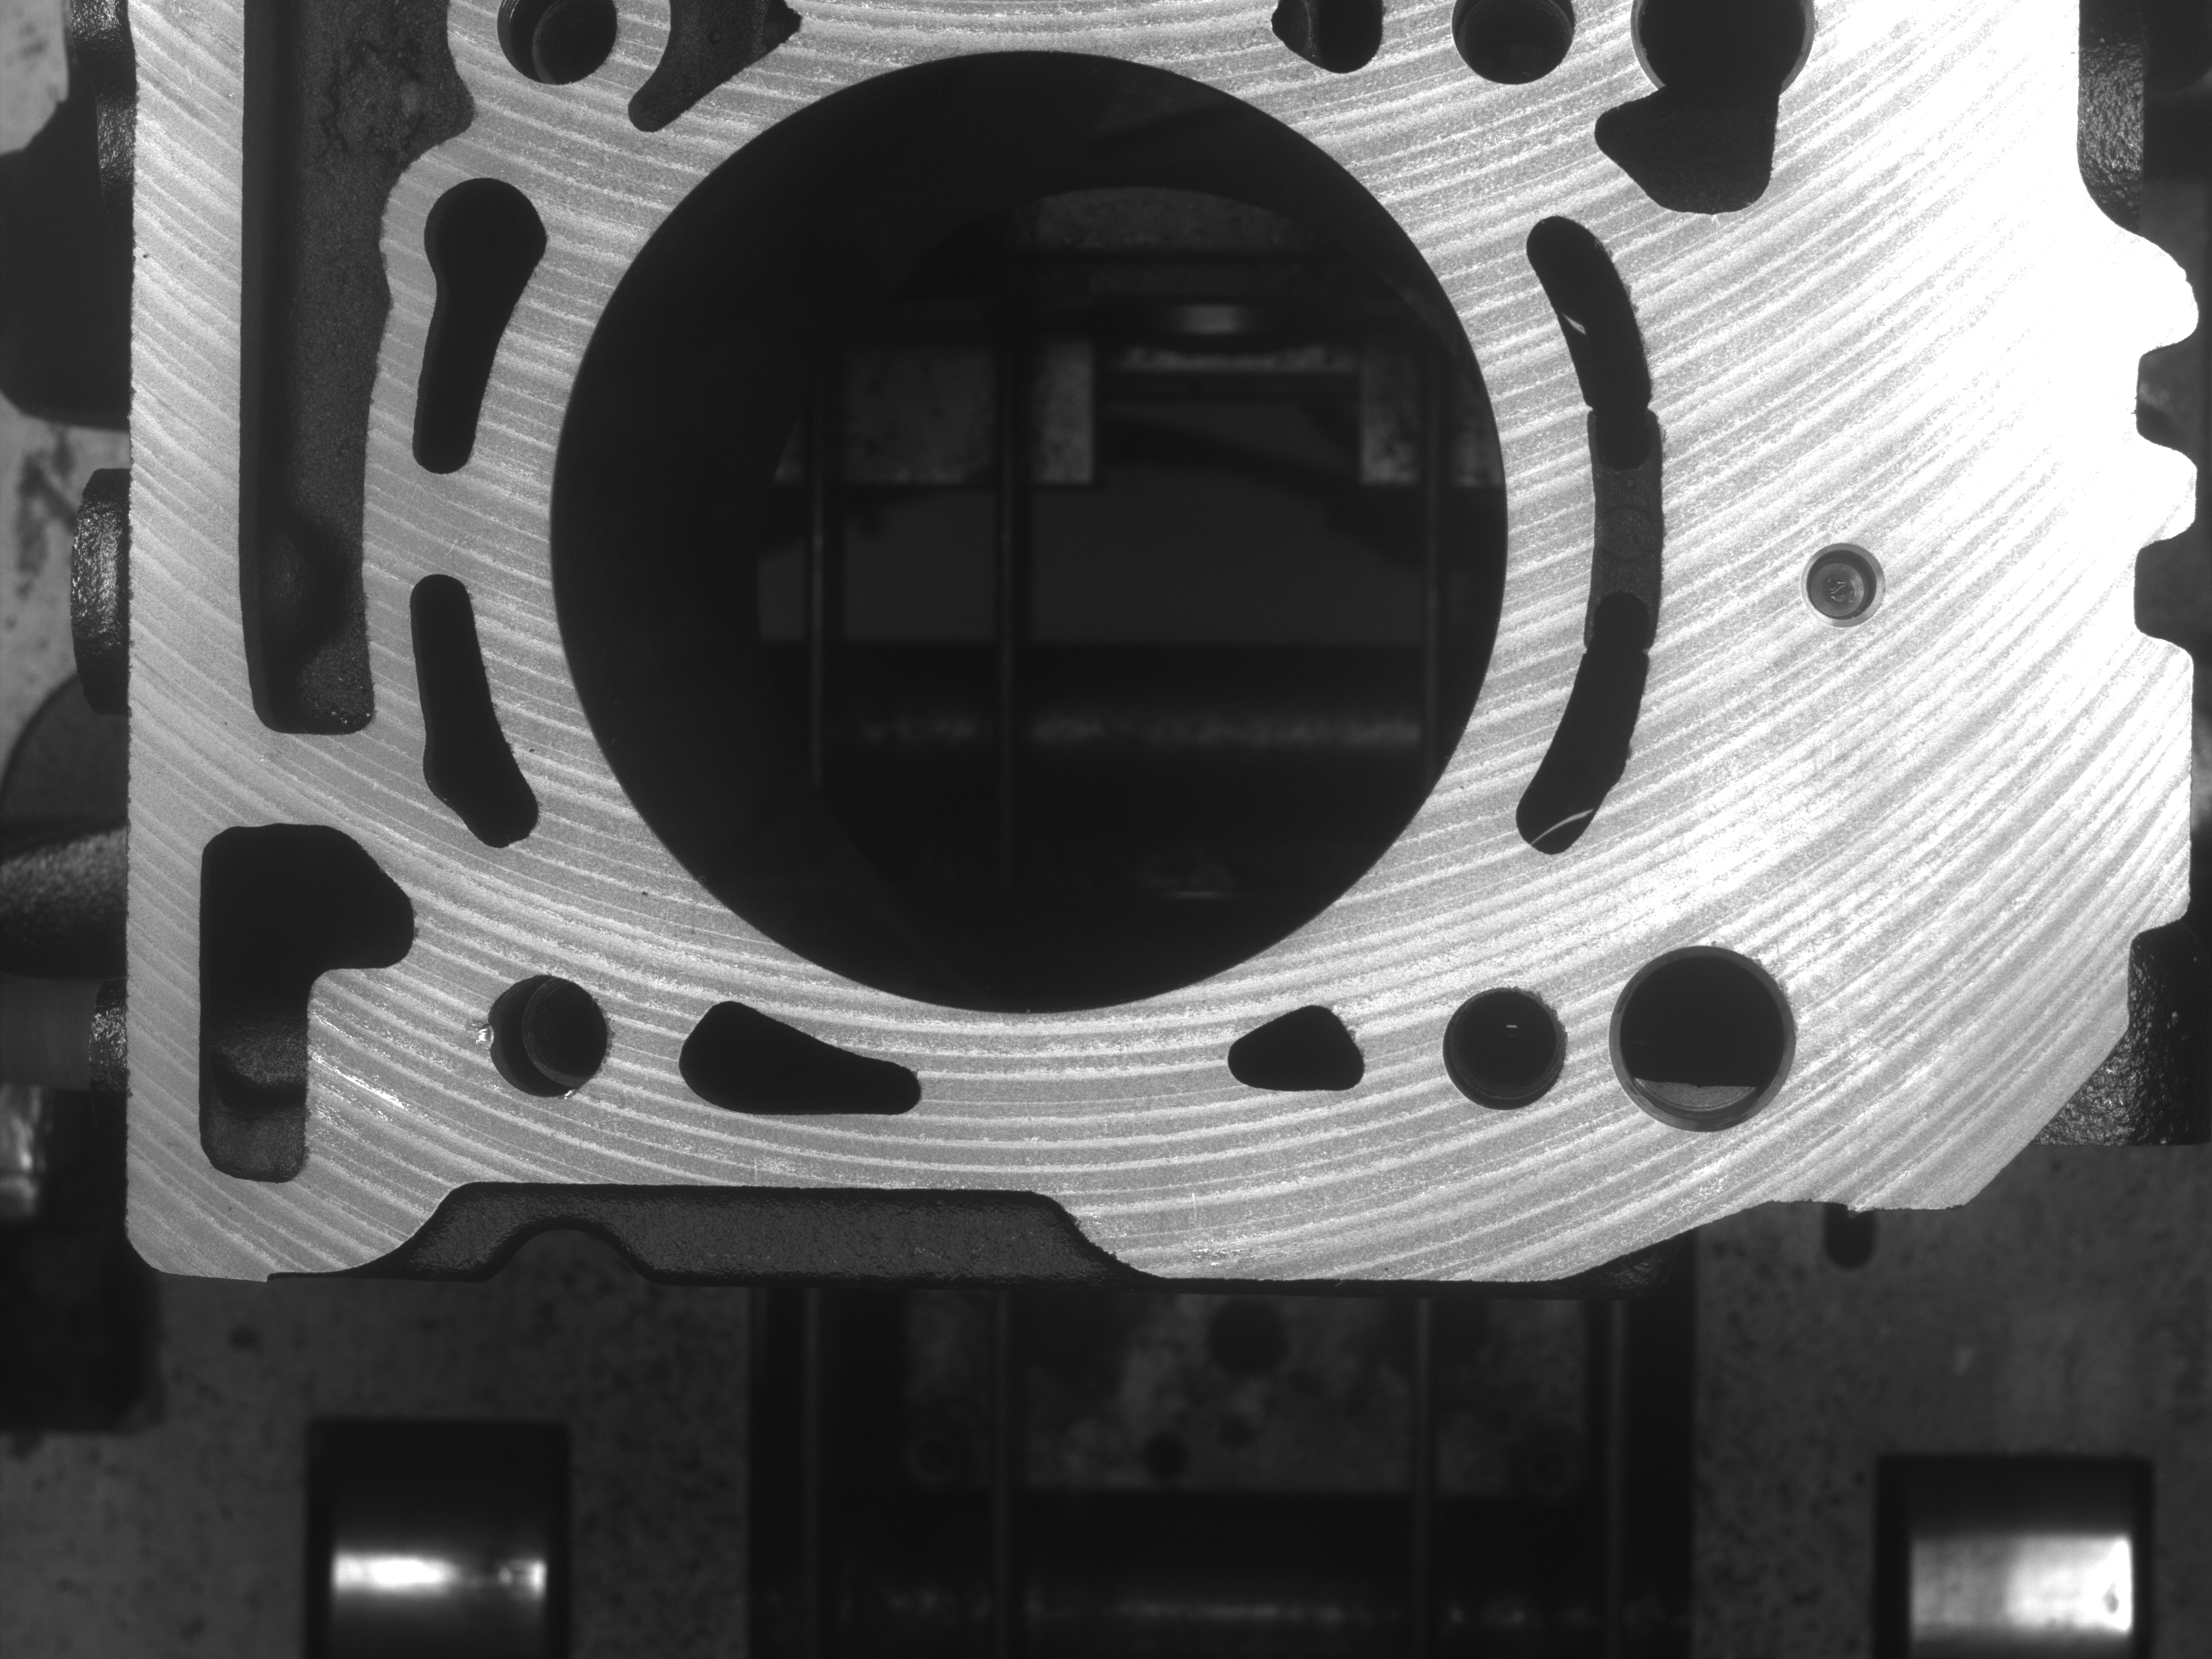shrinkage: (455, 1007, 488, 1046)
